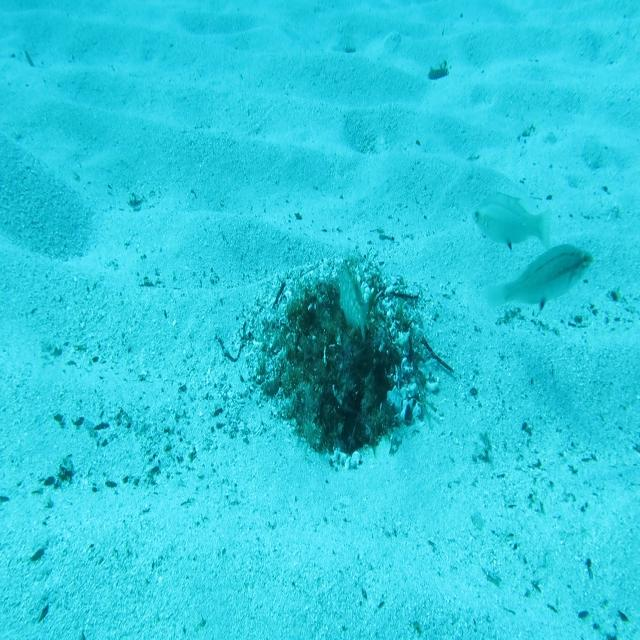NIP_CORE: (335, 255, 372, 344)
core_nest: (316, 304, 362, 352)
female: (480, 240, 592, 319), (468, 188, 554, 253)
nest: (230, 248, 446, 481)
vegetation: (428, 63, 450, 82)
